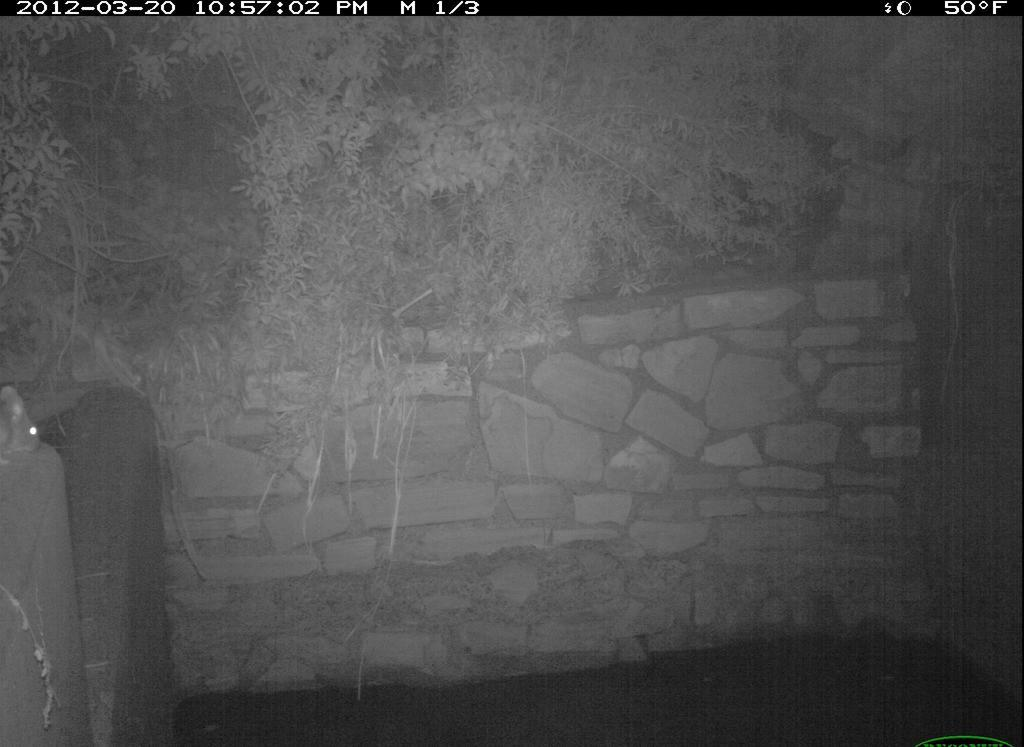rodent: (1, 363, 58, 500)
